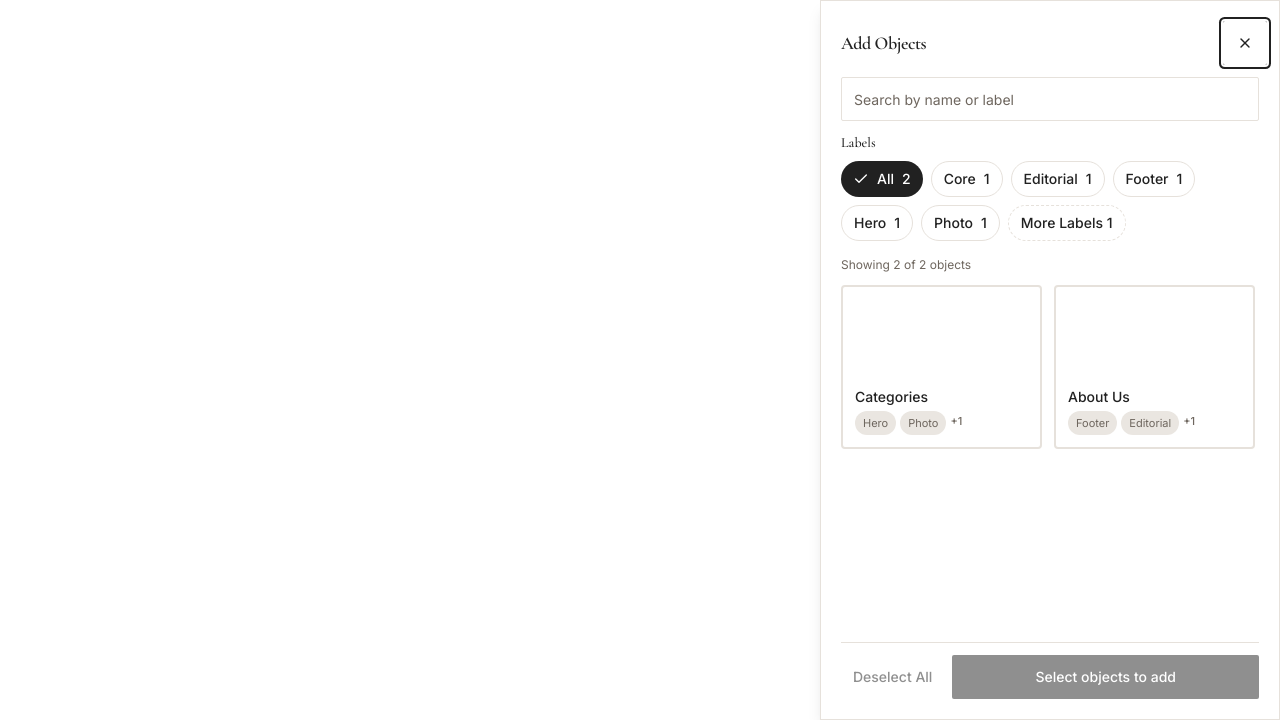
Test: filters through the label list and remembers recently selected labels
Expected: the button "Categories Hero Photo +1" is shown, [841,285,1042,449]
Click the button "More Labels 1" at (1067, 223), box [1008,205,1126,241]
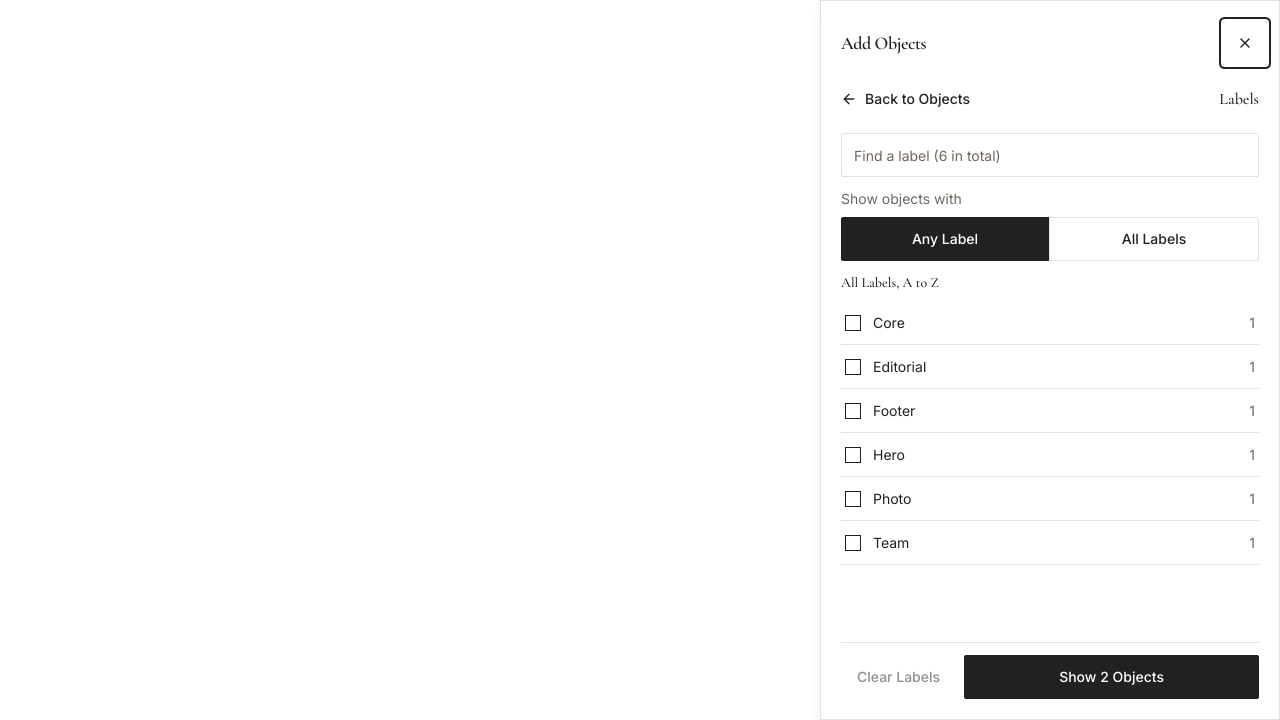
Click the checkbox named "Hero" at (853, 454), box [845,446,861,462]
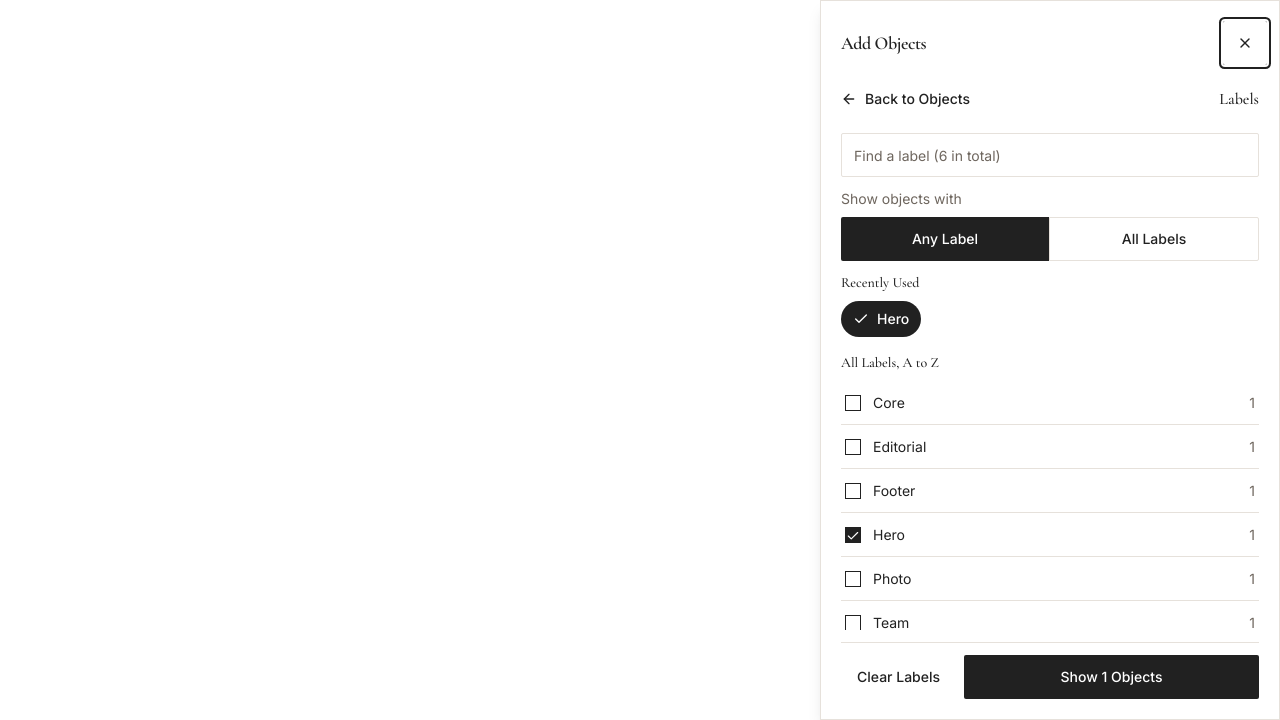
Click the checkbox named "Footer" at (853, 490), box [845,482,861,498]
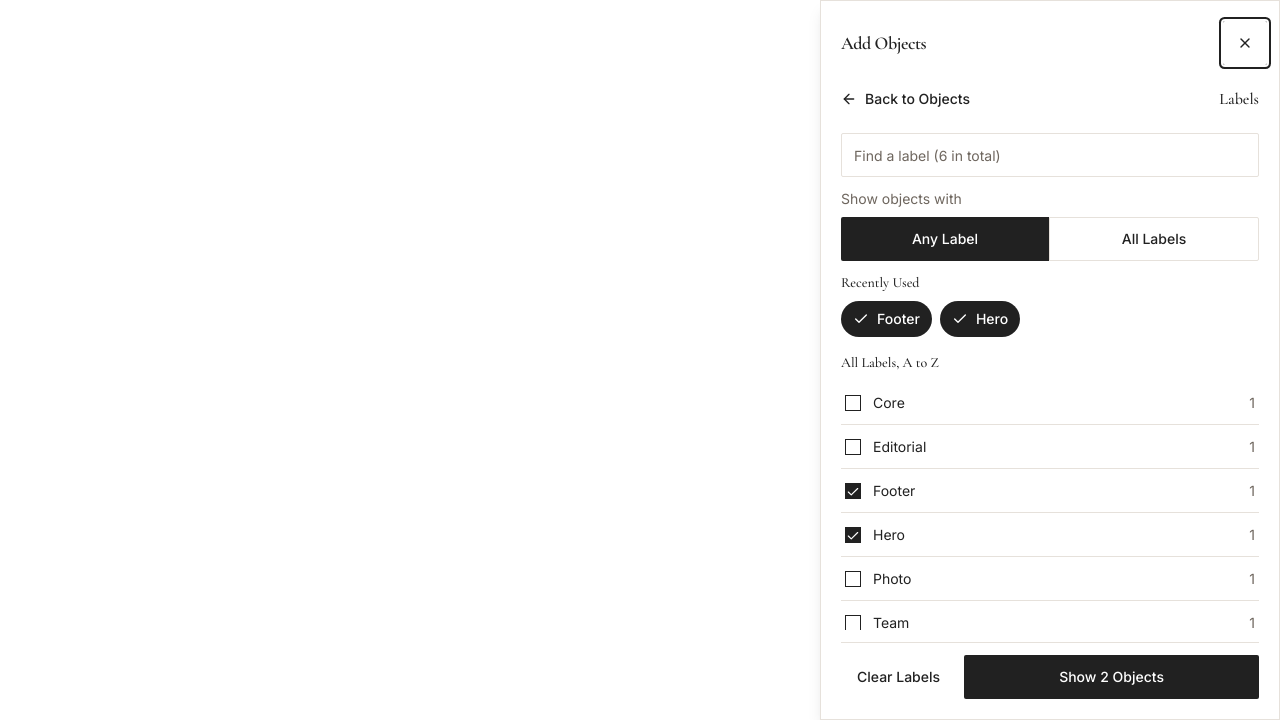
Result: the button "Show 2 Objects" is shown at [964,655,1259,699]
Click the button "All Labels" at (1154, 239), box [1049,217,1259,261]
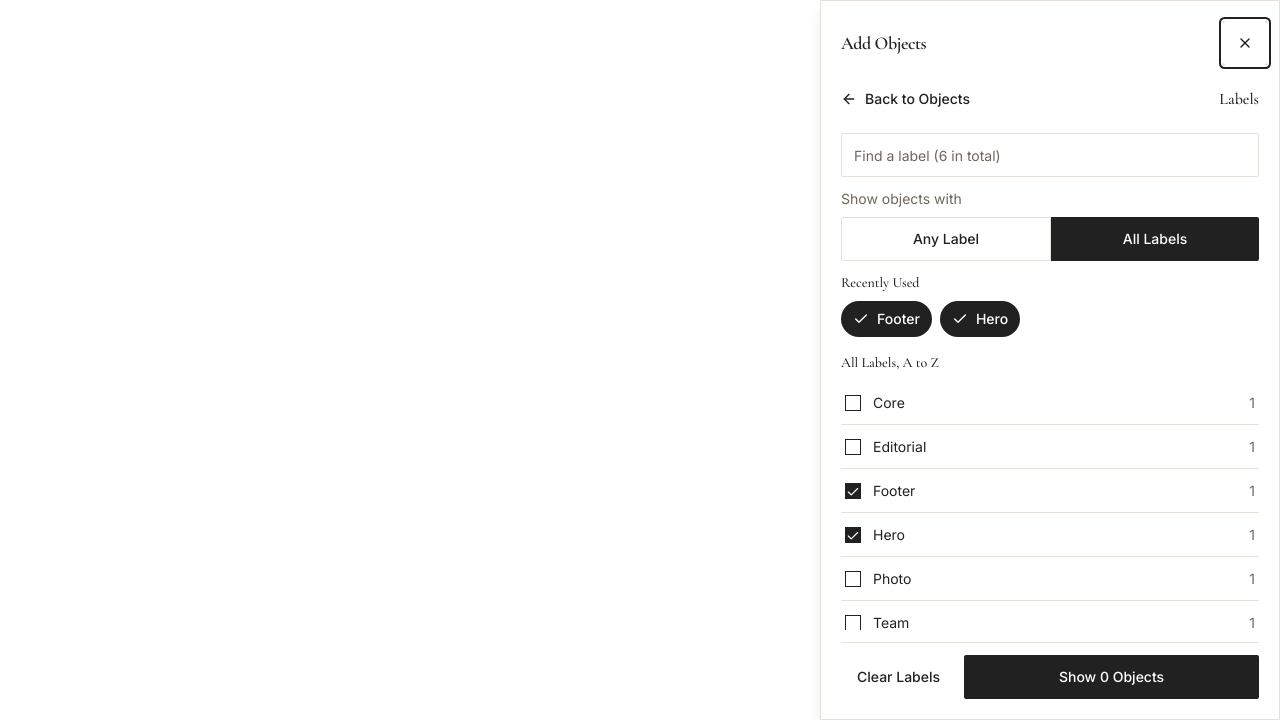
Click the button "Show 0 Objects" at (1112, 677), box [964,655,1259,699]
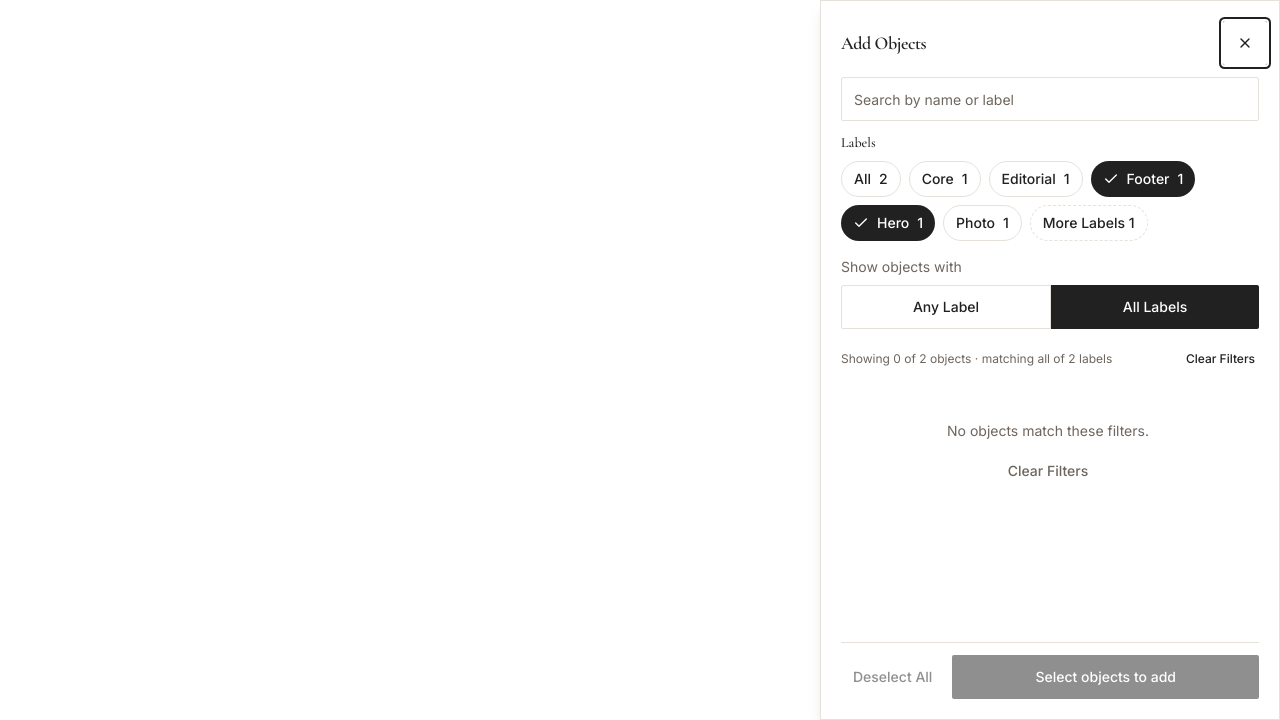
Result: the text "No objects match these filters." is shown at [947,422,1149,439]
